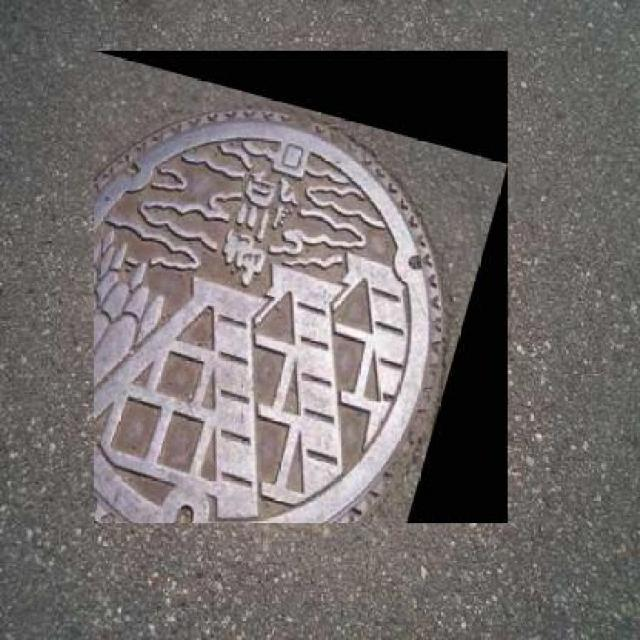Manhole: (94, 51, 508, 524)
